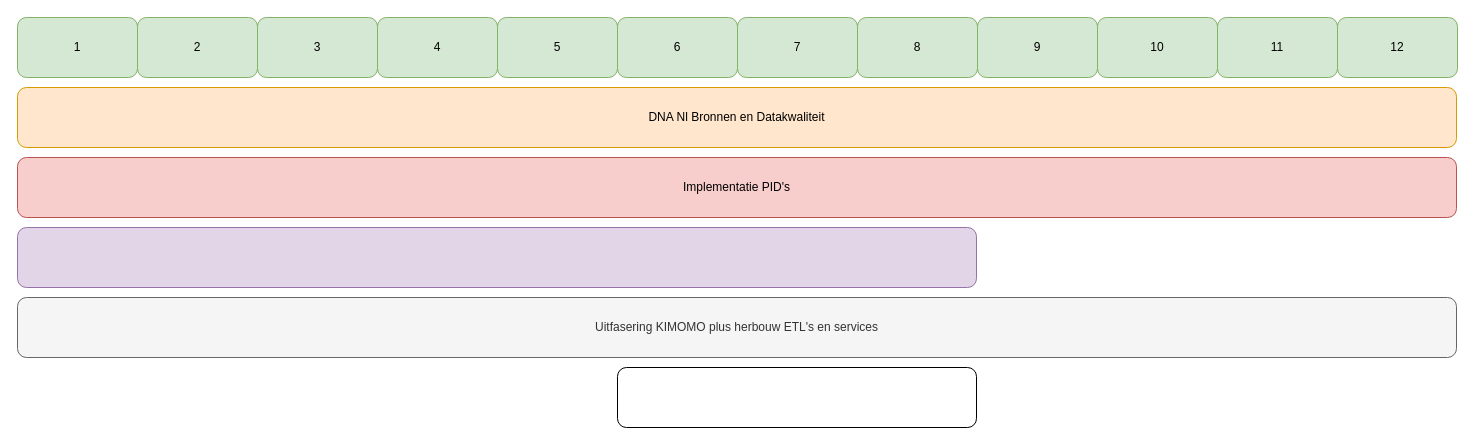
Some shapes in this 1475 by 445 pixel diagram are drawn without their labels. Here are the shapes that lost their labels. From the top down, the centre of each, then its label:
At pixel 496 257: "RCE Datavisie & Datastrategie".
At pixel 796 397: "Alternatief voor Access".
